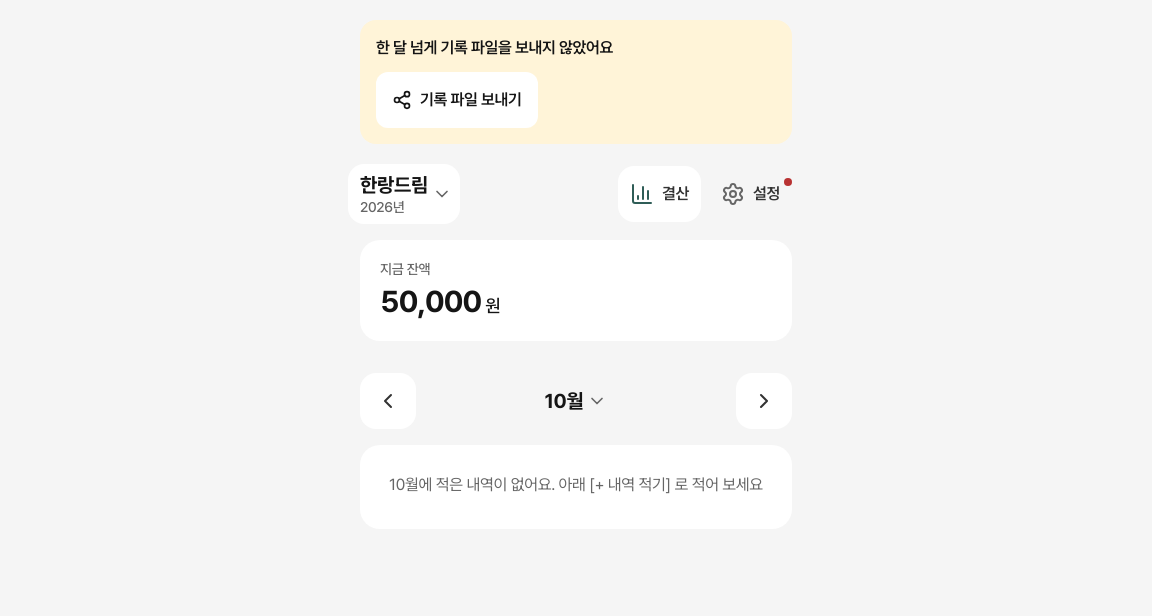
Test: SPEC-002 30일 백업 안내 › 점 표시를 보고 설정에 오면 설정 화면에도 같은 띠가 보이고, 월 정리·올해 결산에는 없다
The width and height of the screenshot is (1152, 616).
Click the button named "설정, 기록 파일 보내기 필요": click(756, 194) [709,166,804,222]
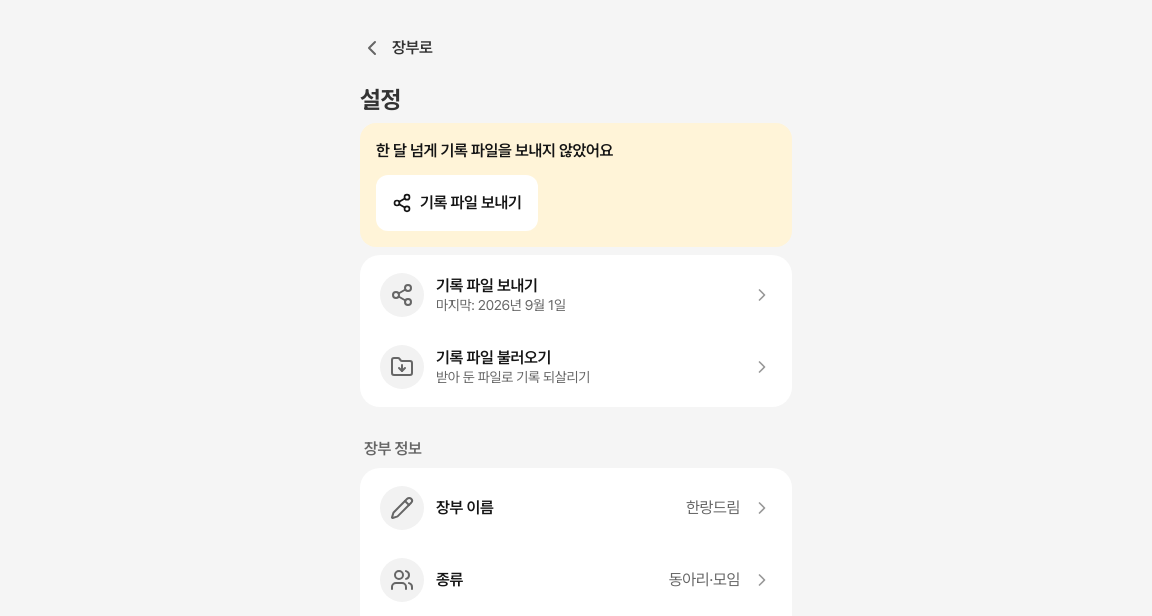
Expected: the text "한 달 넘게 기록 파일을 보내지 않았어요" is shown, [376,141,613,160]
Click the button "장부로": click(396, 48) [348,20,444,76]
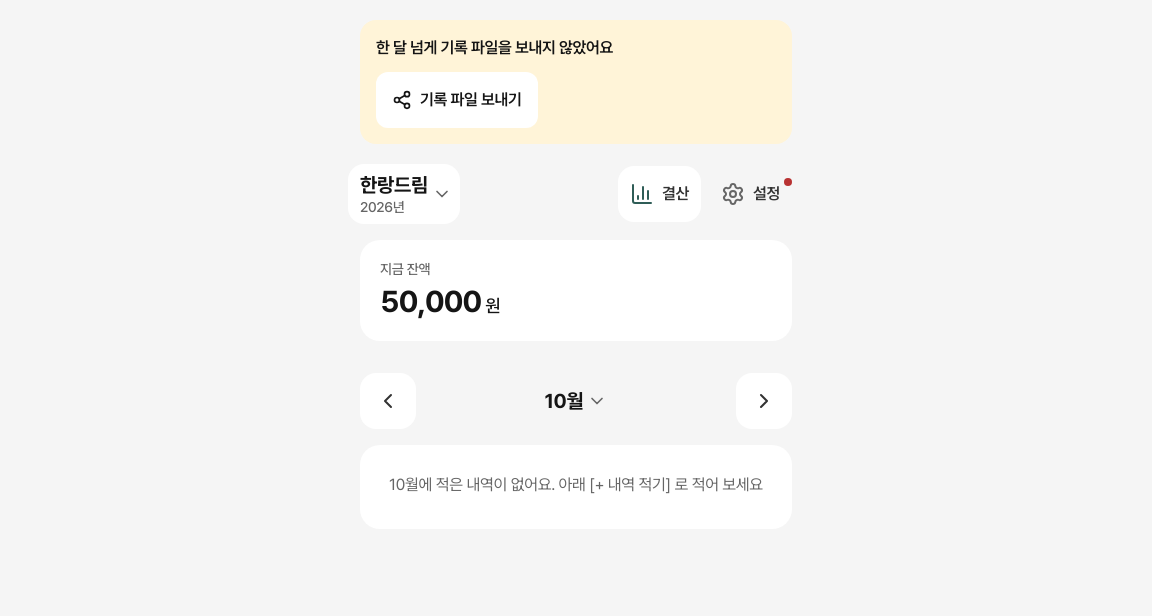
Click the button "결산": click(659, 194) [618,166,701,222]
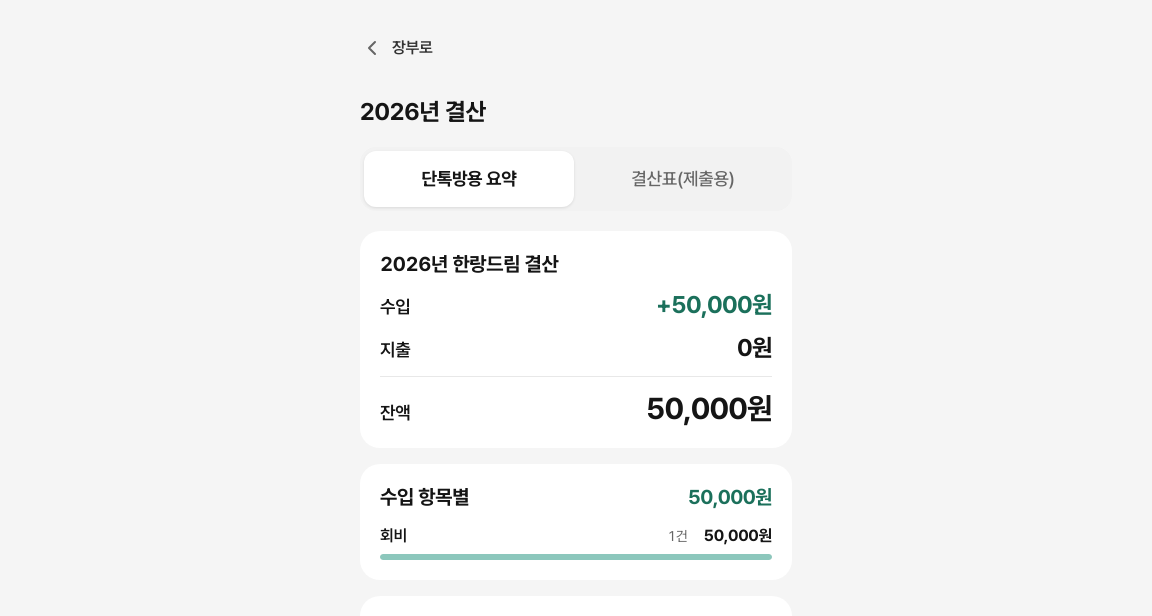
Expected: the text "한 달 넘게 기록 파일을 보내지 않았어요" is gone
